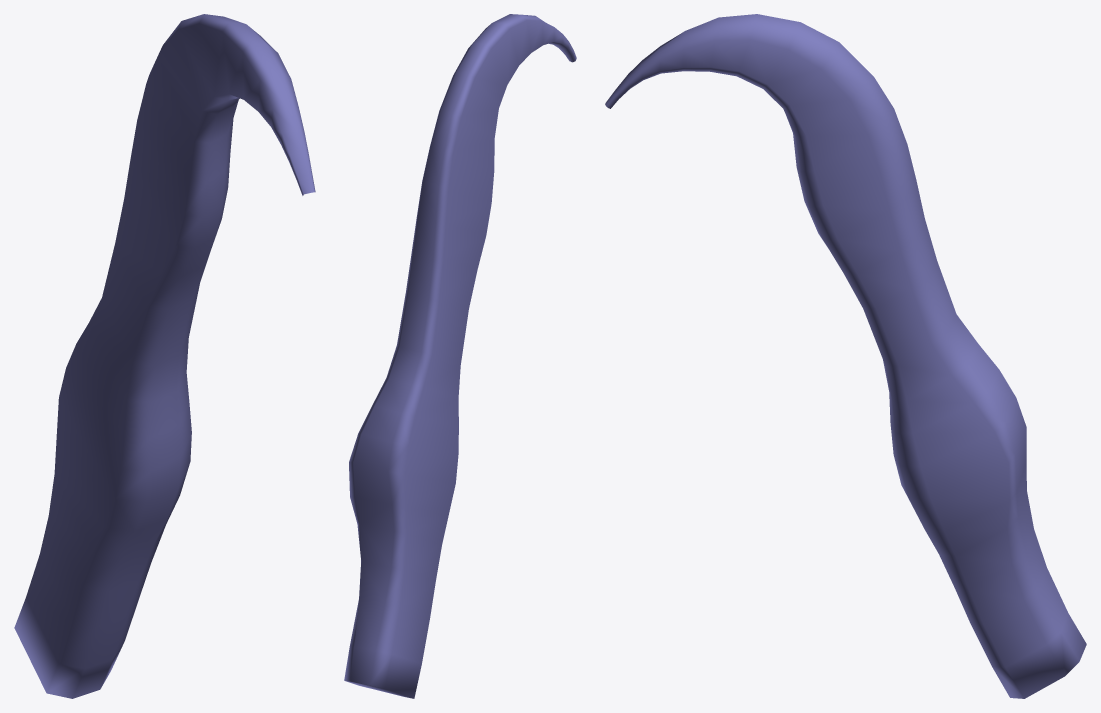
Rendered from Medulla_Oblongate_Trans.gltf.
3 renders of one model, left to right at view 1: azimuth 30°, elevation 25°; view 2: azimuth 150°, elevation 25°; view 3: azimuth 270°, elevation 25°, orthographic. The views are drawn at different scales.
Visible parts, largest first — view 1: Medulla_Oblongate; view 2: Medulla_Oblongate; view 3: Medulla_Oblongate.
Boxes of the visible parts, x1,y1,x2,y2 form: Medulla_Oblongate: (14,14,315,698); Medulla_Oblongate: (344,14,576,698); Medulla_Oblongate: (605,14,1086,698).
Bounding box in the file's own units: 0.972 × 7.72 × 4.97.
